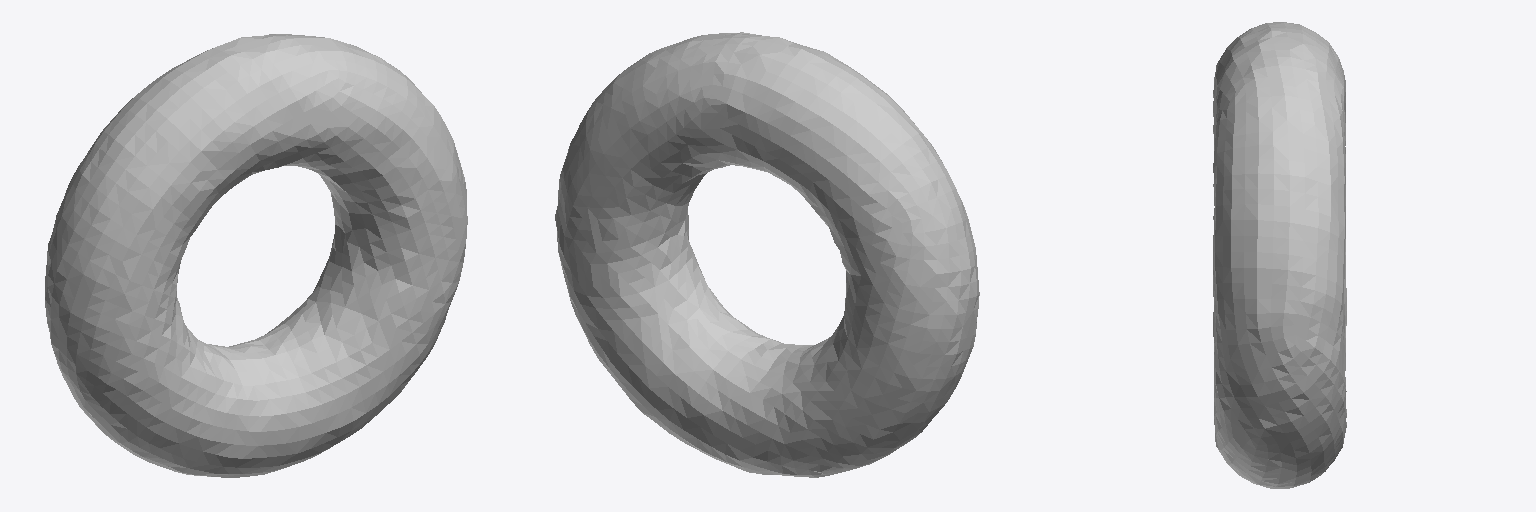
The model's file is torus-messyA.obj.
3 renders of one model, left to right at view 1: azimuth 30°, elevation 25°; view 2: azimuth 150°, elevation 25°; view 3: azimuth 270°, elevation 25°, orthographic.
Visible parts, largest first — view 1: torus-messyA_Cylinder.001; view 2: torus-messyA_Cylinder.001; view 3: torus-messyA_Cylinder.001.
Part boxes in pixels (x1,y1,x2,y2): torus-messyA_Cylinder.001: (45,34,467,477); torus-messyA_Cylinder.001: (555,32,979,477); torus-messyA_Cylinder.001: (1213,22,1346,488).
Bounding box in the file's own units: 2.77 × 2.76 × 0.7965.